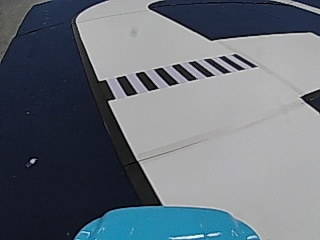CrossWalk: (104, 52, 249, 96)
